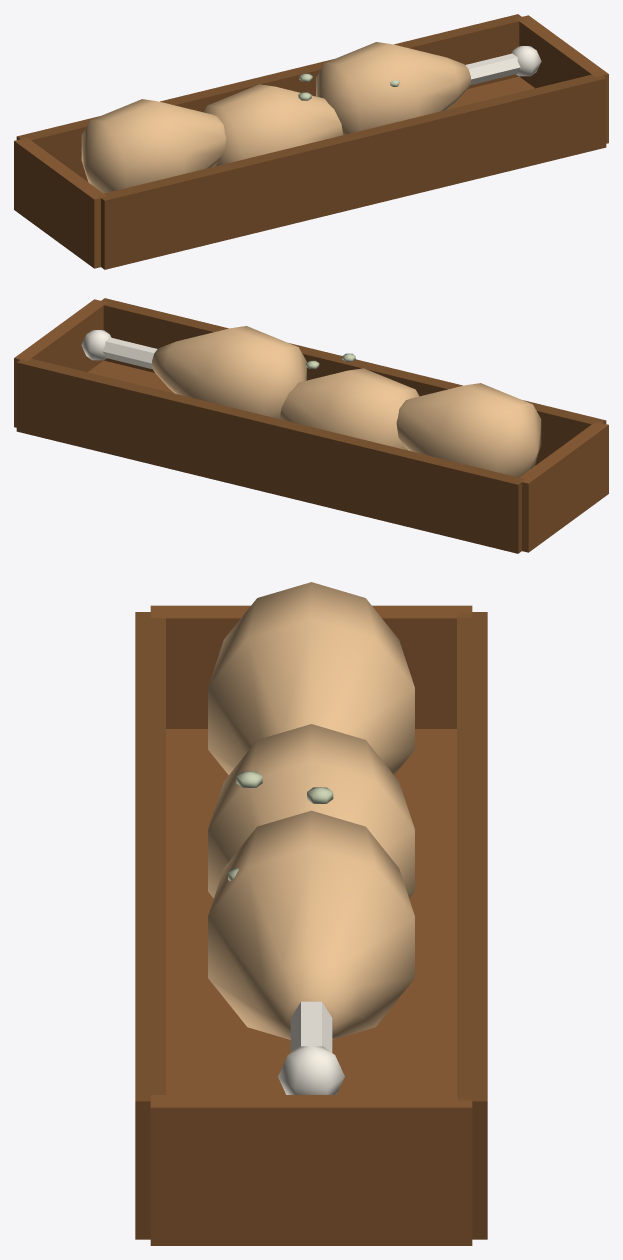
The model's file is Meat_Duck.fbx.
3 views of the same model, one above another, from view 1: azimuth 30°, elevation 25°; view 2: azimuth 150°, elevation 25°; view 3: azimuth 270°, elevation 25° (orthographic). The views are drawn at different scales.
Visible parts, largest first — view 1: Meat_Duck__Stack, Meat_Duck; view 2: Meat_Duck__Stack, Meat_Duck; view 3: Meat_Duck__Stack, Meat_Duck, Meat_Duck__Rotten.
Part boxes in pixels (x1=…): Meat_Duck__Stack: x1=14, y1=14, x2=608, y2=269; Meat_Duck: x1=203, y1=84, x2=343, y2=166; Meat_Duck__Stack: x1=14, y1=298, x2=608, y2=553; Meat_Duck: x1=279, y1=368, x2=419, y2=450; Meat_Duck__Stack: x1=135, y1=582, x2=487, y2=1245; Meat_Duck: x1=208, y1=724, x2=414, y2=898; Meat_Duck__Rotten: x1=228, y1=771, x2=333, y2=881.
Size of the model in its own units: 0.3118 by 0.0652 by 0.0924.
